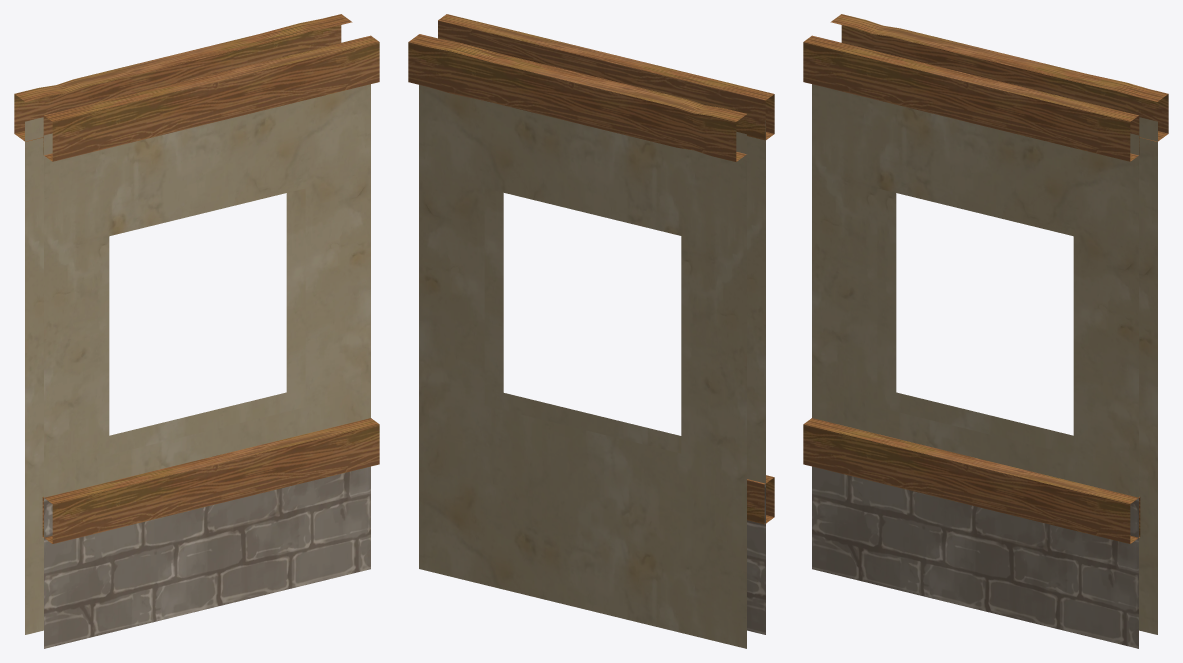
Rendered from Wall_Plaster_Window_Wide_Flat.glb.
The picture shows the model from 3 angles, left to right: view 1: azimuth 30°, elevation 25°; view 2: azimuth 150°, elevation 25°; view 3: azimuth 330°, elevation 25°; orthographic projection.
Parts seen in each view (by area): view 1: Wall_Plaster_Window_Wide_Flat; view 2: Wall_Plaster_Window_Wide_Flat; view 3: Wall_Plaster_Window_Wide_Flat.
Part boxes in pixels (bbox=[...]): Wall_Plaster_Window_Wide_Flat: bbox=[14, 14, 379, 648]; Wall_Plaster_Window_Wide_Flat: bbox=[408, 14, 774, 648]; Wall_Plaster_Window_Wide_Flat: bbox=[803, 14, 1168, 648].
Bounding box in the file's own units: 2 × 3.12 × 0.4064.
3 materials, 3 textured.
